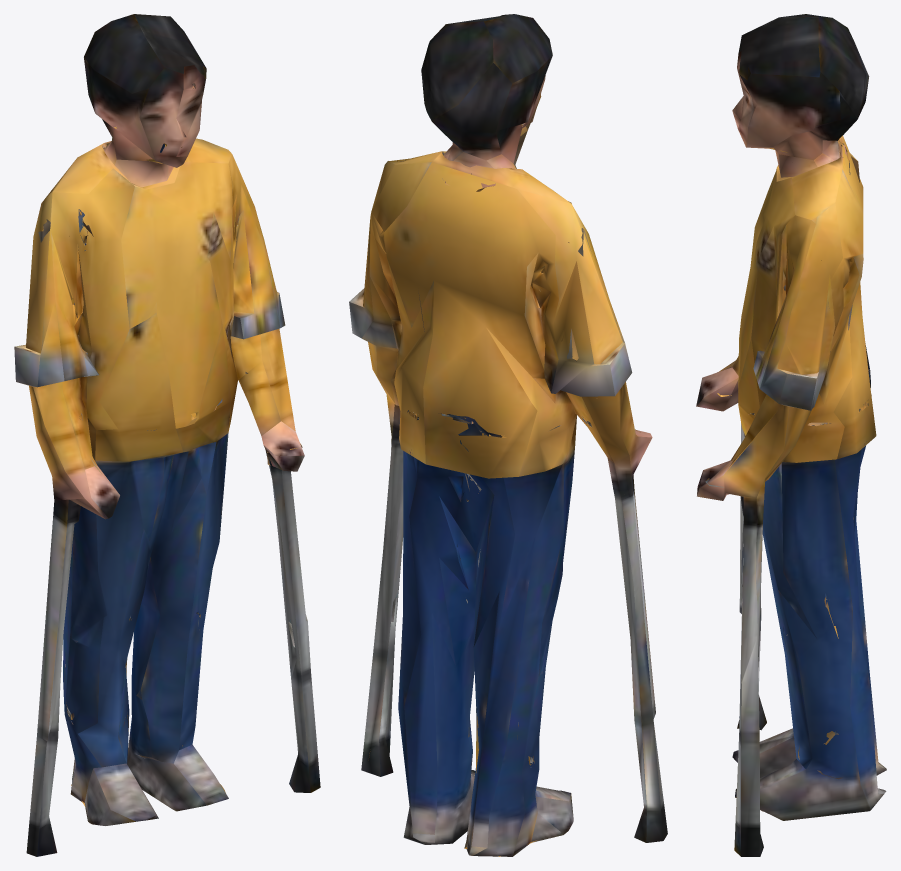
Rendered from person_05.glb.
3 renders of one model, left to right at view 1: azimuth 30°, elevation 25°; view 2: azimuth 150°, elevation 25°; view 3: azimuth 270°, elevation 25°, orthographic. The views are drawn at different scales.
Visible parts, largest first — view 1: Human_Rig; view 2: Human_Rig; view 3: Human_Rig.
Boxes of the visible parts, box(x1,y1,x2,y2) form: Human_Rig: box(14, 14, 320, 856); Human_Rig: box(349, 14, 667, 856); Human_Rig: box(696, 14, 886, 856).
Size of the model in its own units: 0.5228 by 1.36 by 0.3043.
Materials: 1 (1 with a texture image).
